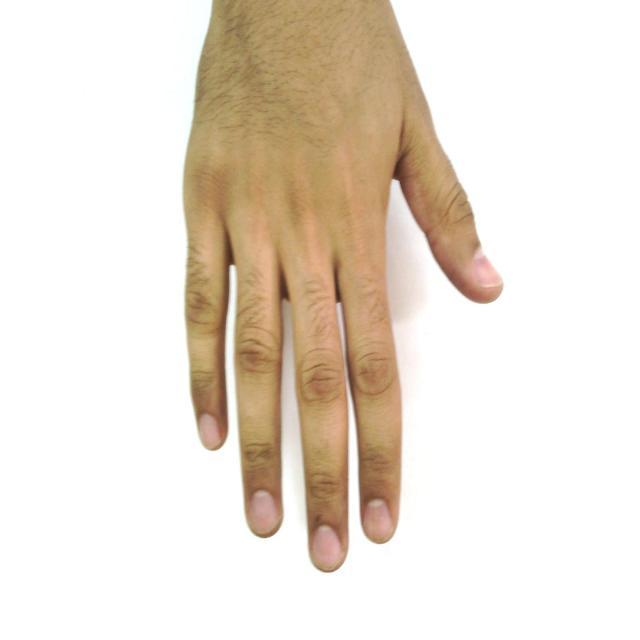Fingernail: (313, 526, 342, 569), (251, 491, 277, 535), (364, 500, 392, 539), (475, 253, 502, 287), (200, 414, 220, 449)
